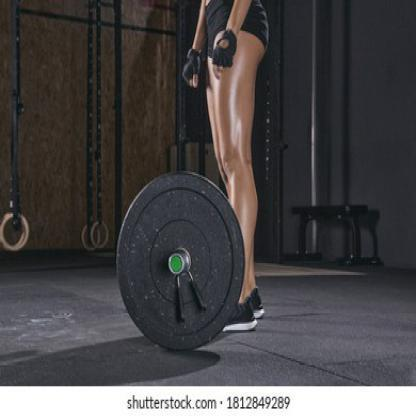barbell: (117, 173, 243, 352)
